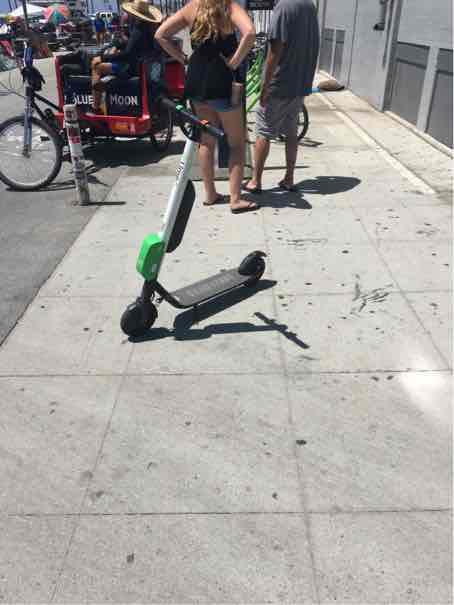scooter: (116, 94, 281, 358)
